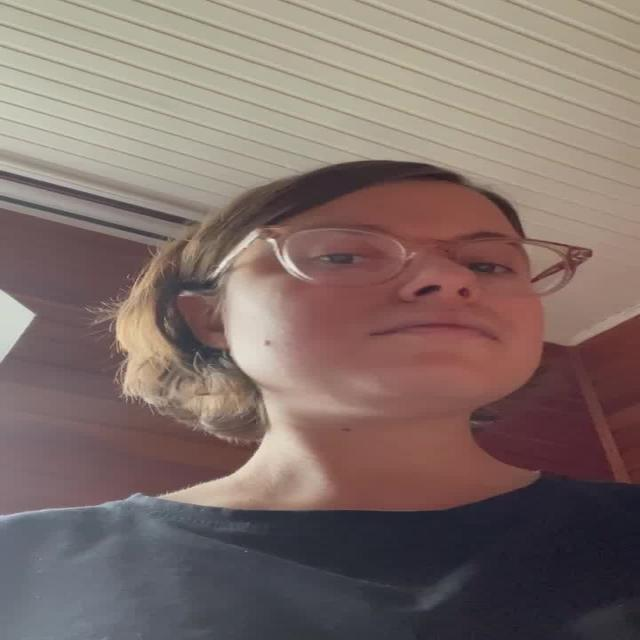earlobe: (201, 328, 229, 352)
eye: (312, 252, 379, 268), (465, 260, 521, 276)
nose: (407, 296, 478, 316)
wholeear: (173, 290, 230, 351)
